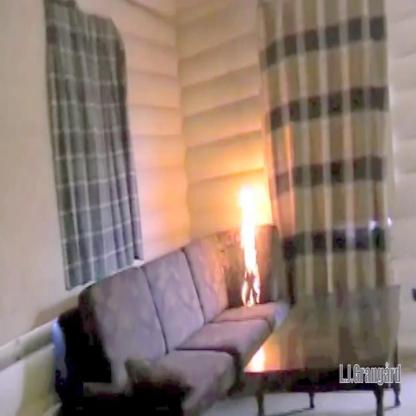fire: (236, 181, 266, 308)
